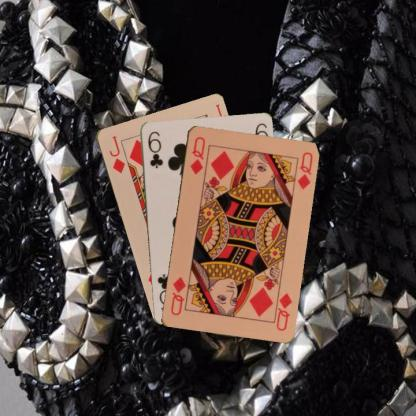6c: (145, 128, 164, 170)
Jd: (106, 133, 126, 174)
Qd: (271, 286, 294, 332), (187, 134, 206, 176)
